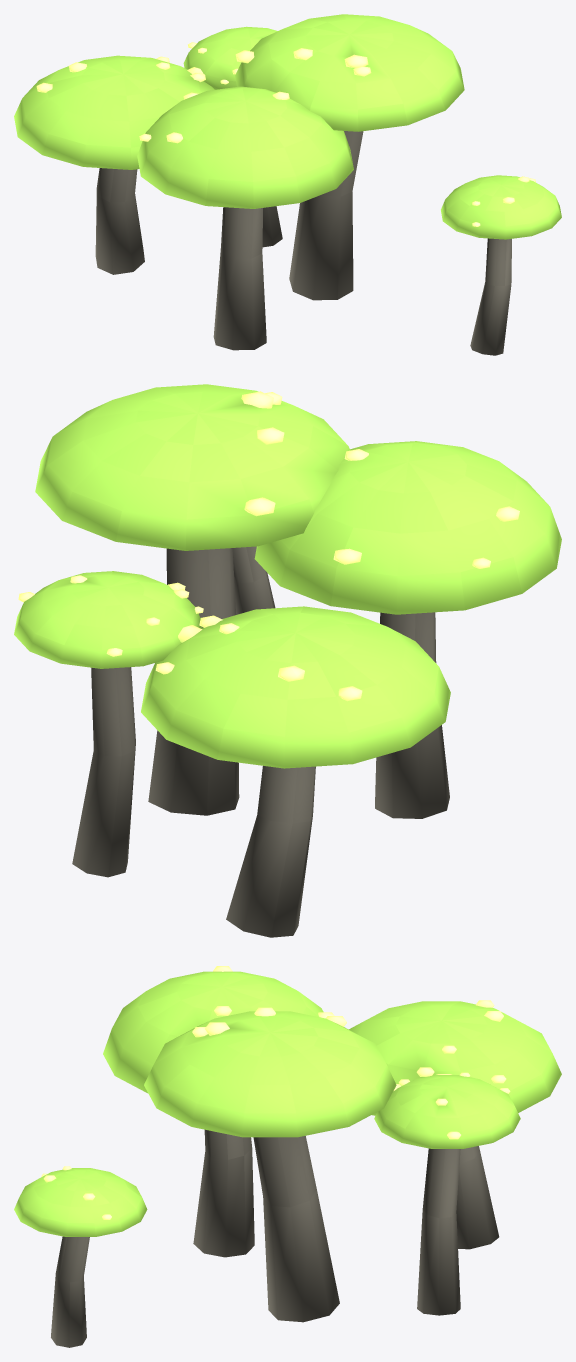
File: obj_deco_hongos_3.glb
The picture shows the model from 3 angles, top to bottom: view 1: azimuth 30°, elevation 25°; view 2: azimuth 150°, elevation 25°; view 3: azimuth 270°, elevation 25°; orthographic projection. The views are drawn at different scales.
Parts seen in each view (by area): view 1: propforge-libre-deco_hongos; view 2: propforge-libre-deco_hongos; view 3: propforge-libre-deco_hongos.
Part boxes in pixels (x1=…): propforge-libre-deco_hongos: x1=14, y1=14, x2=561, y2=355; propforge-libre-deco_hongos: x1=14, y1=384, x2=561, y2=937; propforge-libre-deco_hongos: x1=14, y1=966, x2=561, y2=1347.
Size of the model in its own units: 0.6155 by 0.4334 by 0.7509.
